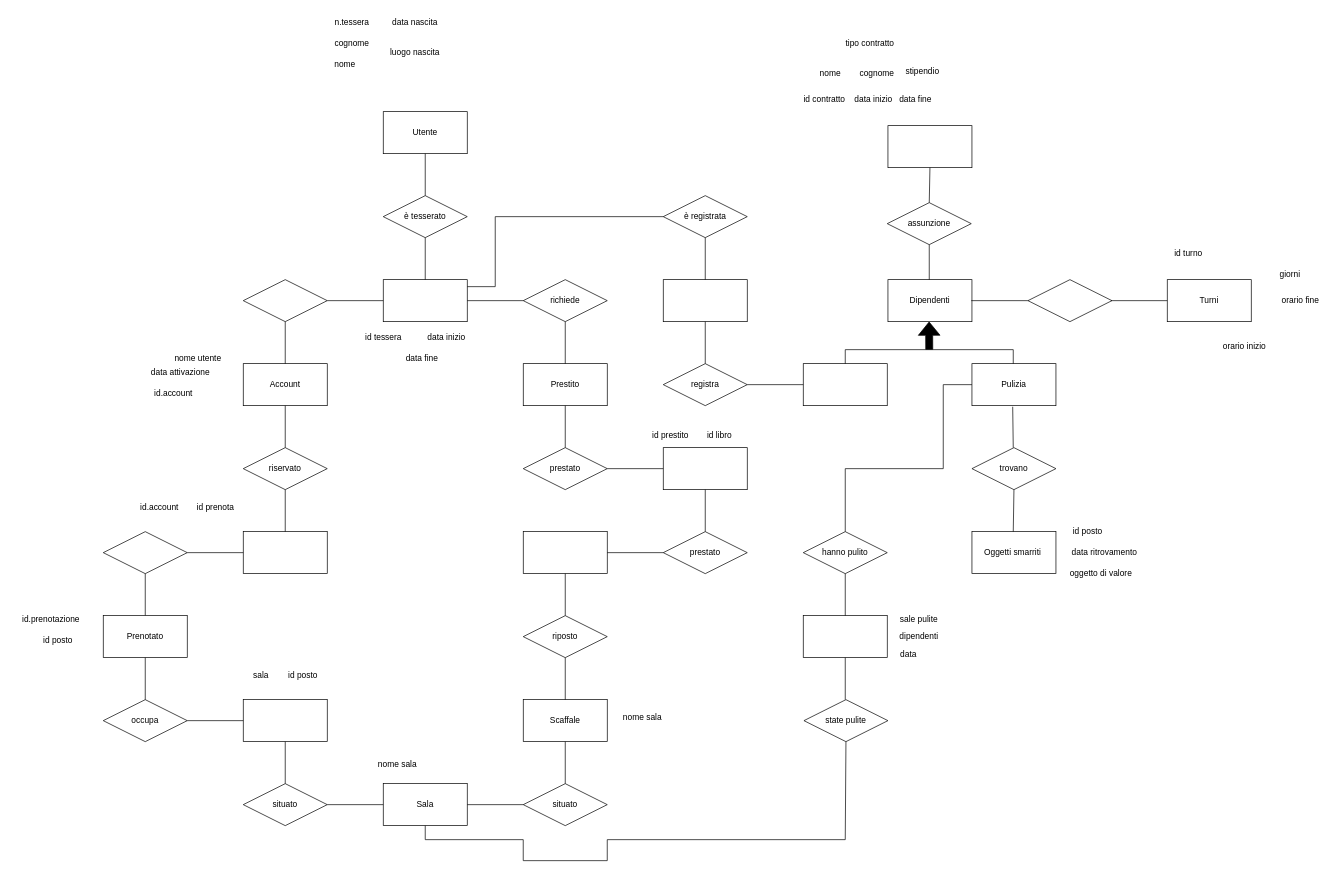
The diagram is 1340 pixels wide and 874 high, and some of its shapes have lost their labels. The box of each missing label's shape, as (x1, y1, x2, y2) in pixels:
Bibliotecari: (803, 363, 887, 406)
Contratto: (887, 125, 972, 168)
Iscrizione: (663, 279, 747, 322)
lavorano: (1027, 279, 1112, 322)
LIbro: (523, 531, 607, 574)
possiede: (243, 279, 327, 322)
Posto: (243, 699, 327, 742)
Prenotazione: (243, 531, 327, 574)
Registro prestiti: (663, 447, 747, 490)
Registro pulizie: (803, 615, 887, 658)
Relationship: (103, 531, 187, 574)
Tessere: (383, 279, 467, 322)
